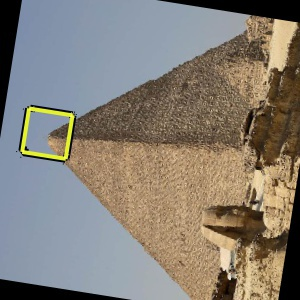square: (16, 101, 78, 165)
